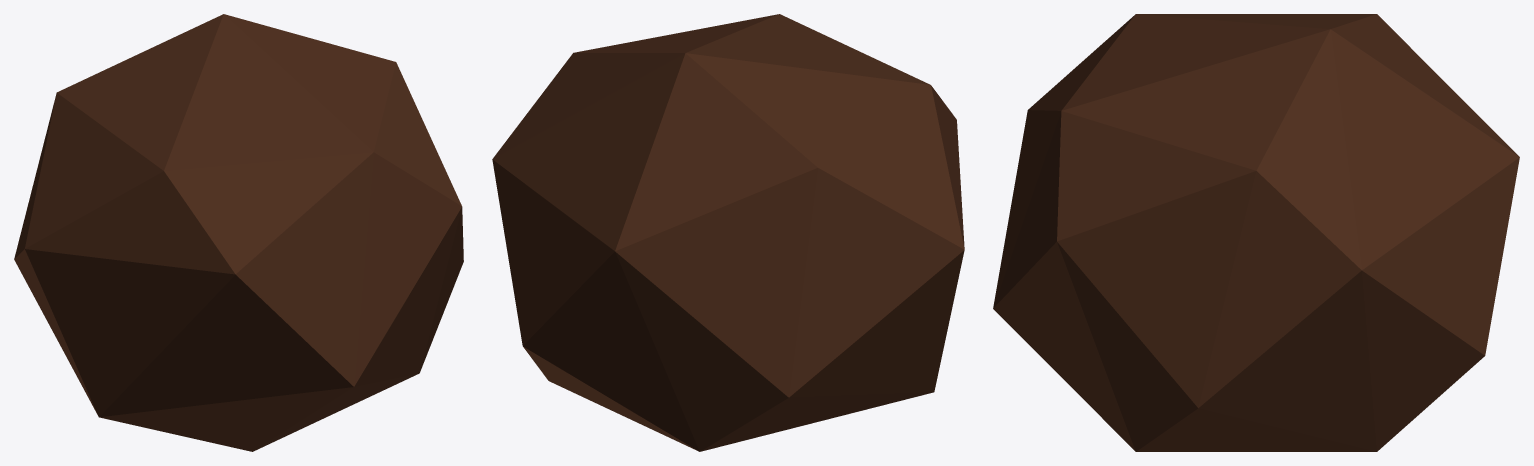
Rendered from Soil 03.fbx.
3 renders of one model, left to right at view 1: azimuth 30°, elevation 25°; view 2: azimuth 150°, elevation 25°; view 3: azimuth 270°, elevation 25°, orthographic. The views are drawn at different scales.
Parts seen in each view (by area): view 1: Rock 01; view 2: Rock 01; view 3: Rock 01.
Part boxes in pixels (x1,y1,x2,y2): Rock 01: (14, 14, 463, 451); Rock 01: (492, 14, 964, 451); Rock 01: (993, 14, 1519, 451).
Size of the model in its own units: 0.5136 by 0.4521 by 0.5045.
